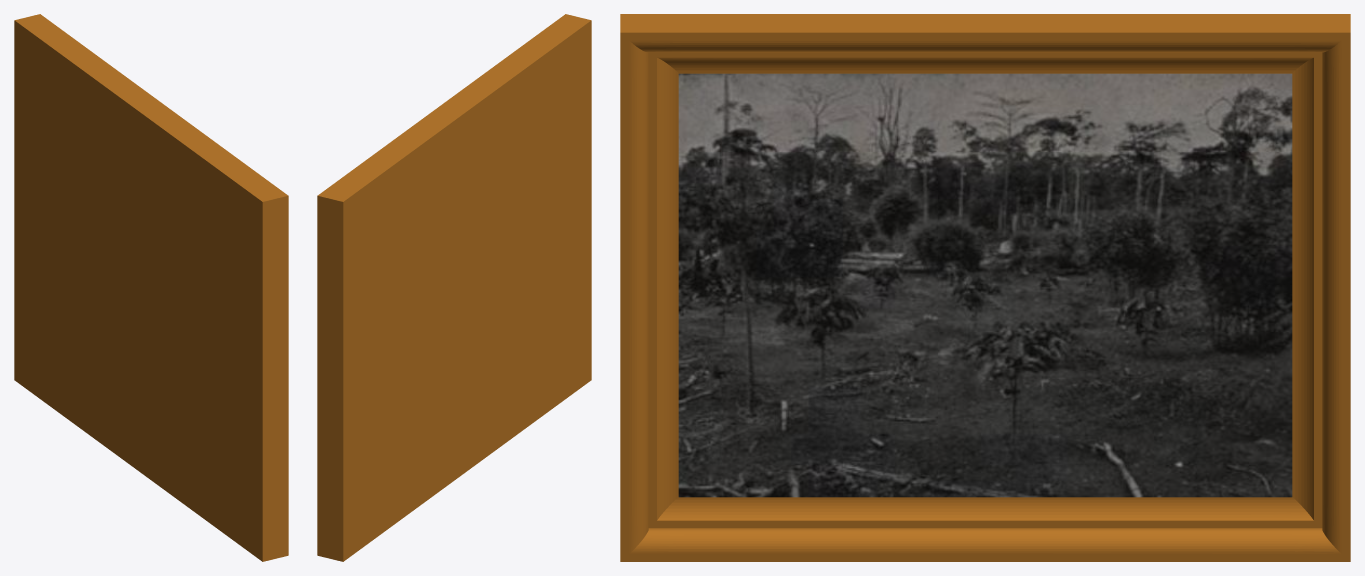
Rendered from kebon.glb.
The picture shows the model from 3 angles, left to right: view 1: azimuth 30°, elevation 25°; view 2: azimuth 150°, elevation 25°; view 3: azimuth 270°, elevation 25°; orthographic projection. The views are drawn at different scales.
Visible parts, largest first — view 1: frame.001, back panel.001; view 2: frame.001, back panel.001; view 3: kebon, back panel.001, frame.001.
Boxes of the visible parts, <box> form: frame.001: <box>14,18,271,561</box>; back panel.001: <box>23,14,288,559</box>; frame.001: <box>334,18,591,561</box>; back panel.001: <box>317,14,582,559</box>; kebon: <box>678,73,1292,497</box>; back panel.001: <box>620,20,1350,561</box>; frame.001: <box>620,14,1350,73</box>.
Bounding box in the file's own units: 15 × 200 × 250.
3 materials, 1 textured.
